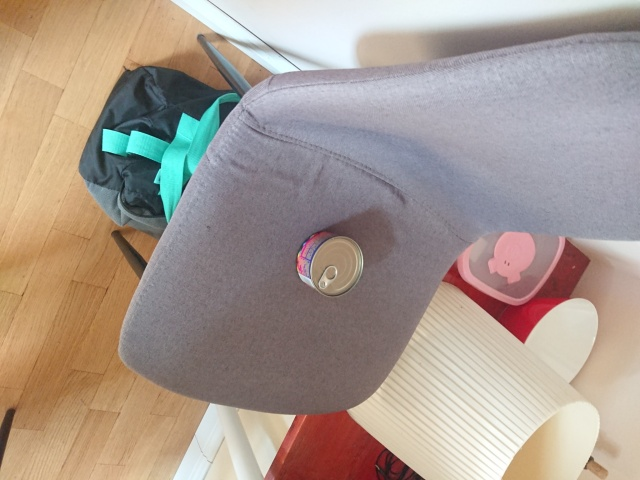Giana Tuna Salad Mexico 185g: (294, 227, 365, 299)
